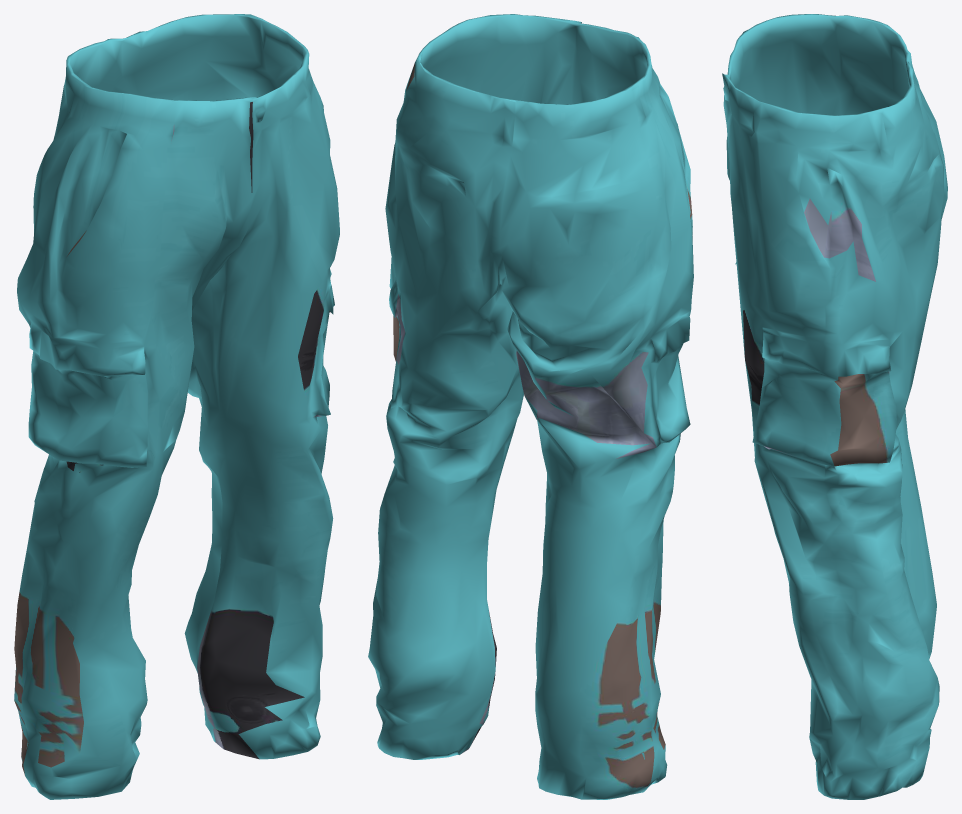
The model's file is only_pants.fbx.
The picture shows the model from 3 angles, left to right: view 1: azimuth 30°, elevation 25°; view 2: azimuth 150°, elevation 25°; view 3: azimuth 270°, elevation 25°; orthographic projection. The views are drawn at different scales.
Visible parts, largest first — view 1: only_pants; view 2: only_pants; view 3: only_pants.
Part boxes in pixels (x1,y1,x2,y2): only_pants: (14, 14, 339, 799); only_pants: (368, 14, 693, 799); only_pants: (722, 14, 947, 799).
Bounding box in the file's own units: 0.2811 × 0.6571 × 0.1979.
